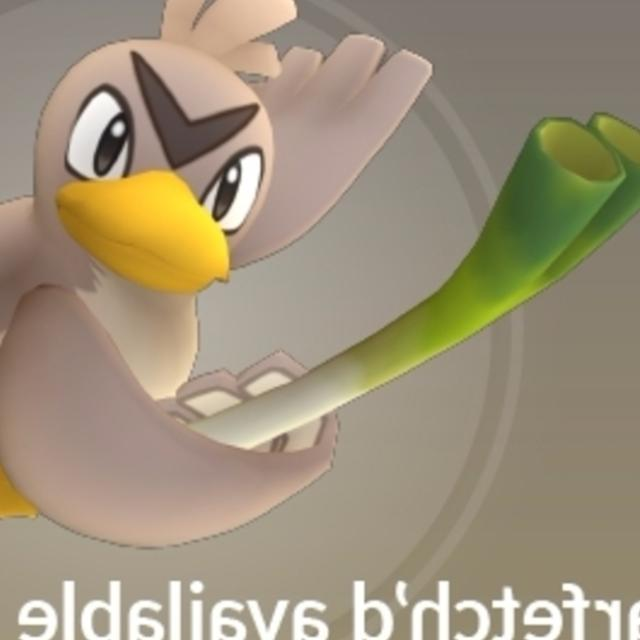Farfetchd: (0, 1, 424, 552)
